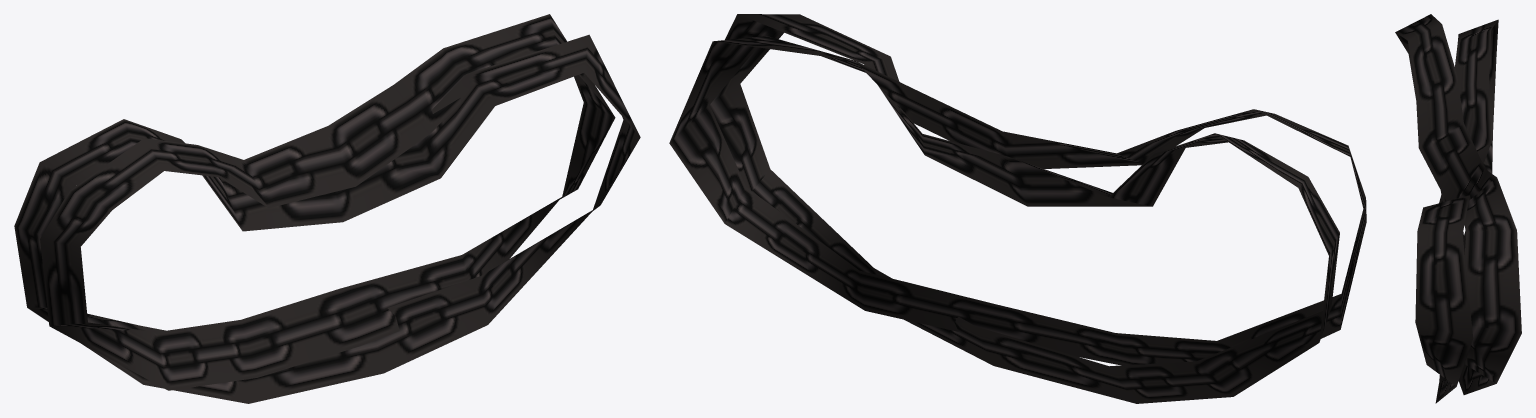
Rendered from GAM_OniCampDoor_Chain.FBX.
3 renders of one model, left to right at view 1: azimuth 30°, elevation 25°; view 2: azimuth 150°, elevation 25°; view 3: azimuth 270°, elevation 25°, orthographic. The views are drawn at different scales.
Parts seen in each view (by area): view 1: GAM_OniCampDoor_Chain; view 2: GAM_OniCampDoor_Chain; view 3: GAM_OniCampDoor_Chain.
Part boxes in pixels (x1,y1,x2,y2): GAM_OniCampDoor_Chain: (14,14,640,403); GAM_OniCampDoor_Chain: (669,14,1366,403); GAM_OniCampDoor_Chain: (1395,14,1521,403).
Size of the model in its own units: 99.36 by 46.25 by 20.73.
